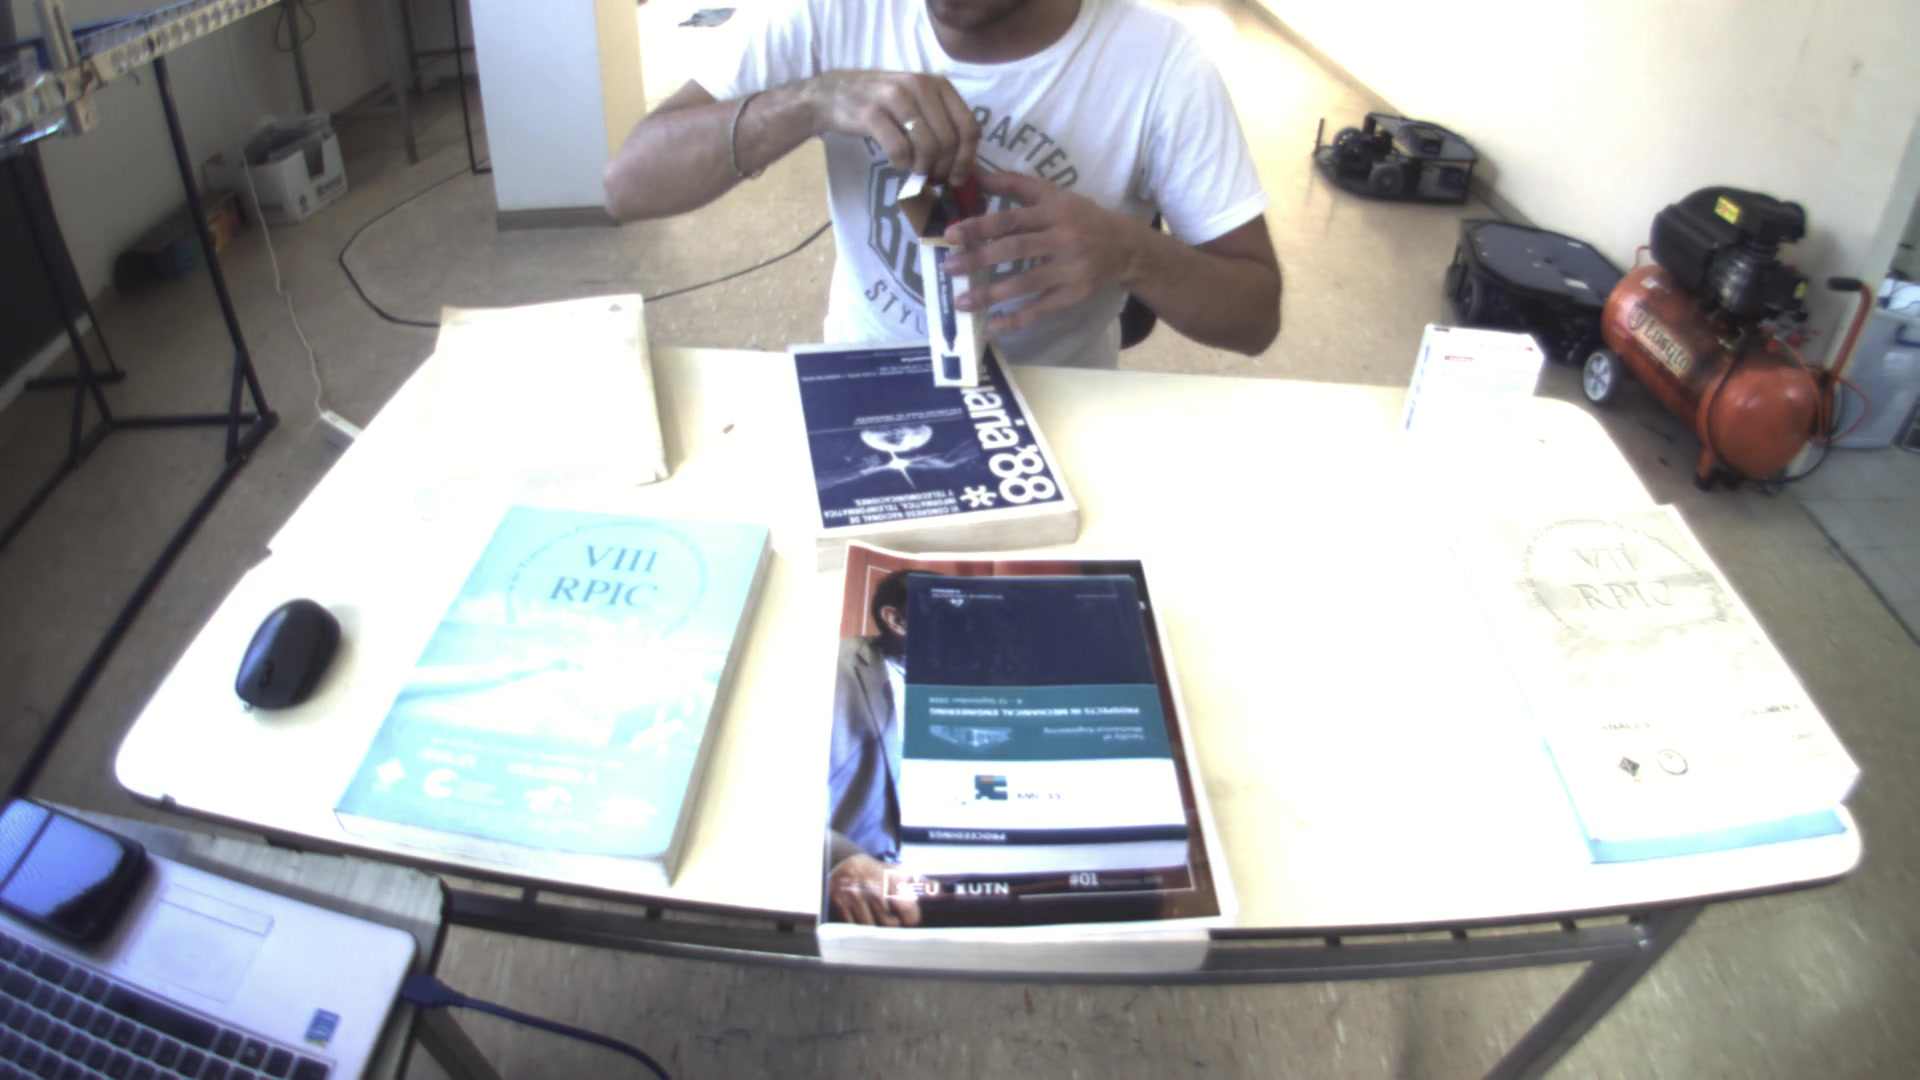hand: (928, 164, 1141, 344), (822, 55, 986, 186)
